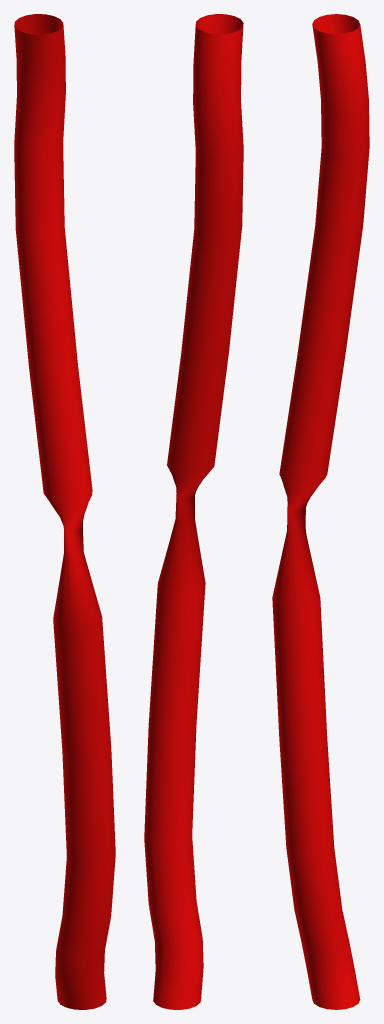
Rendered from wire_damaged_3.gltf.
3 renders of one model, left to right at view 1: azimuth 30°, elevation 25°; view 2: azimuth 210°, elevation 25°; view 3: azimuth 270°, elevation 25°, orthographic. The views are drawn at different scales.
Parts seen in each view (by area): view 1: wire_broken_3; view 2: wire_broken_3; view 3: wire_broken_3.
Part boxes in pixels (x1=…): wire_broken_3: x1=14, y1=14, x2=115, y2=1009; wire_broken_3: x1=144, y1=14, x2=243, y2=1009; wire_broken_3: x1=272, y1=14, x2=369, y2=1009.
Size of the model in its own units: 0.1432 by 1.56 by 0.1445.
